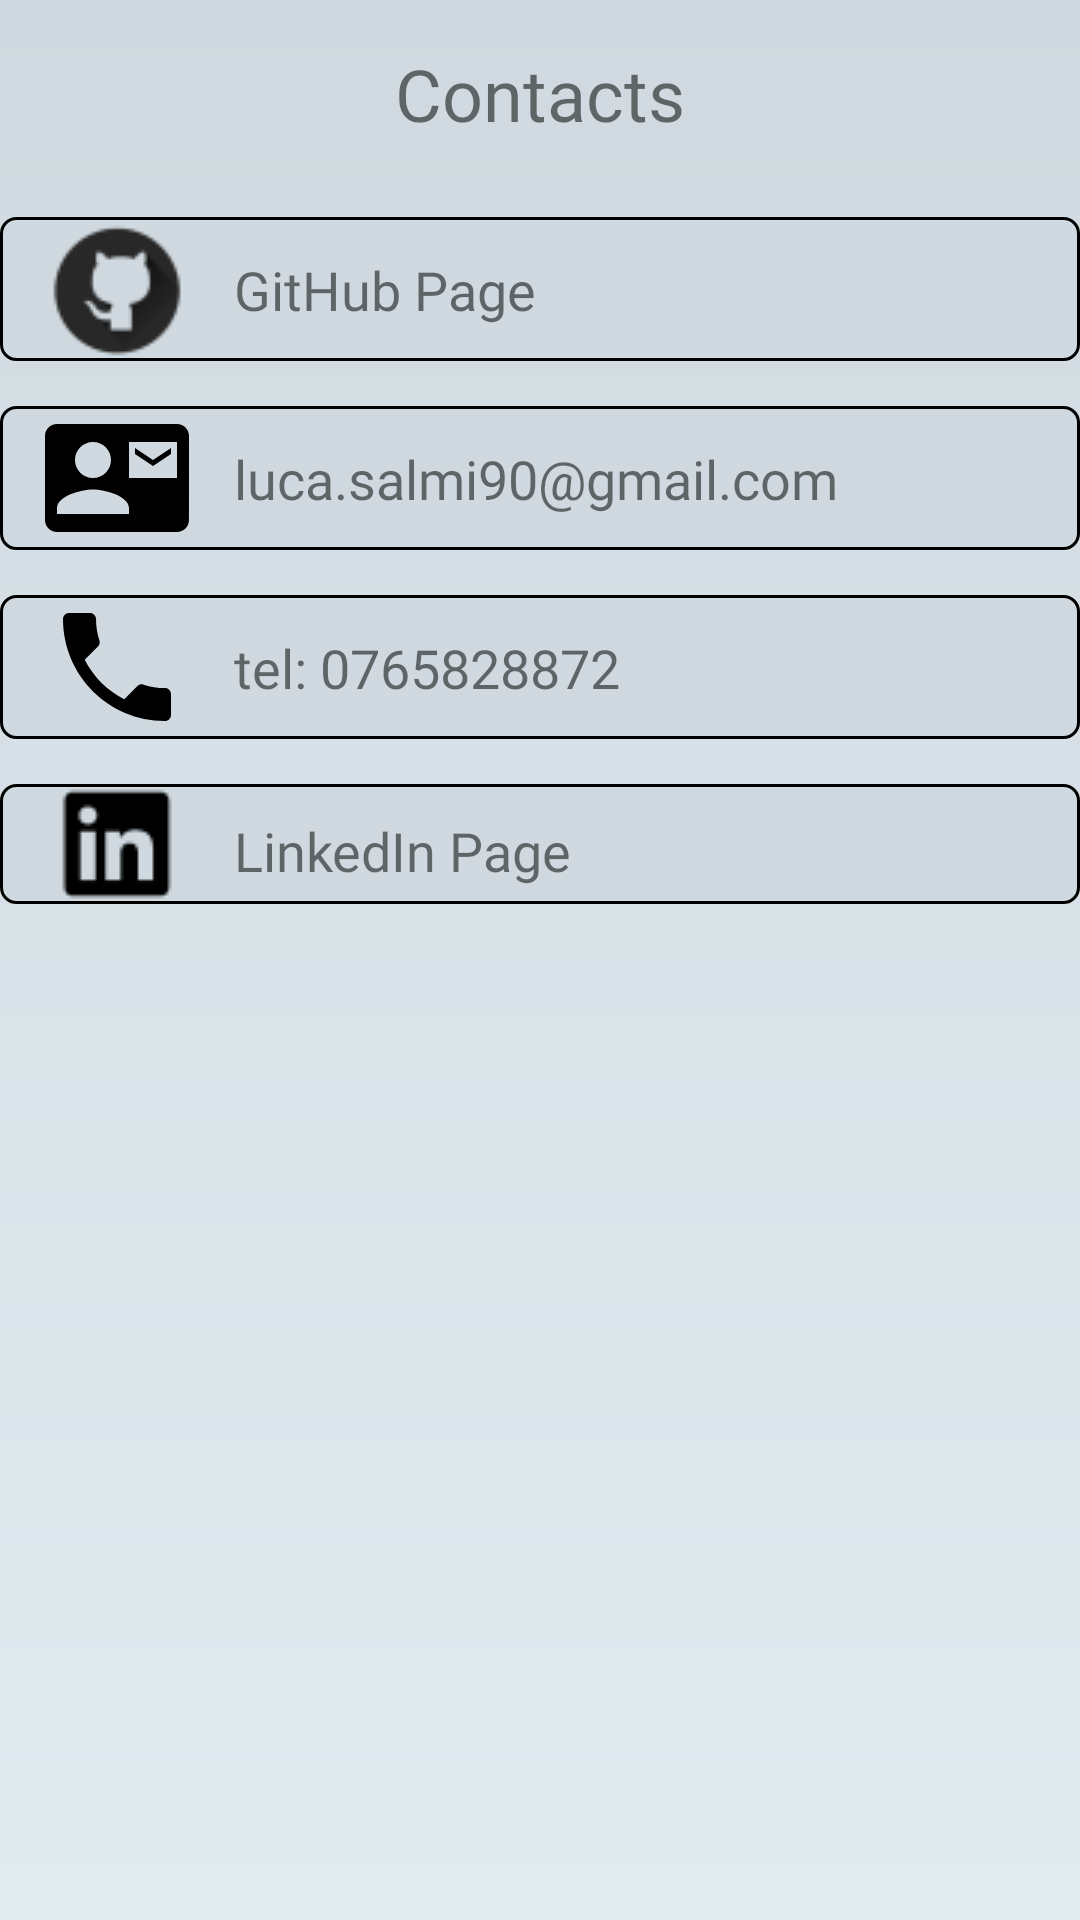

Where icons sit on this 1080px×1920px app screen, as (x1, y1, x2, y2):
contact mail: (45, 424, 189, 532)
phone: (63, 613, 171, 721)
